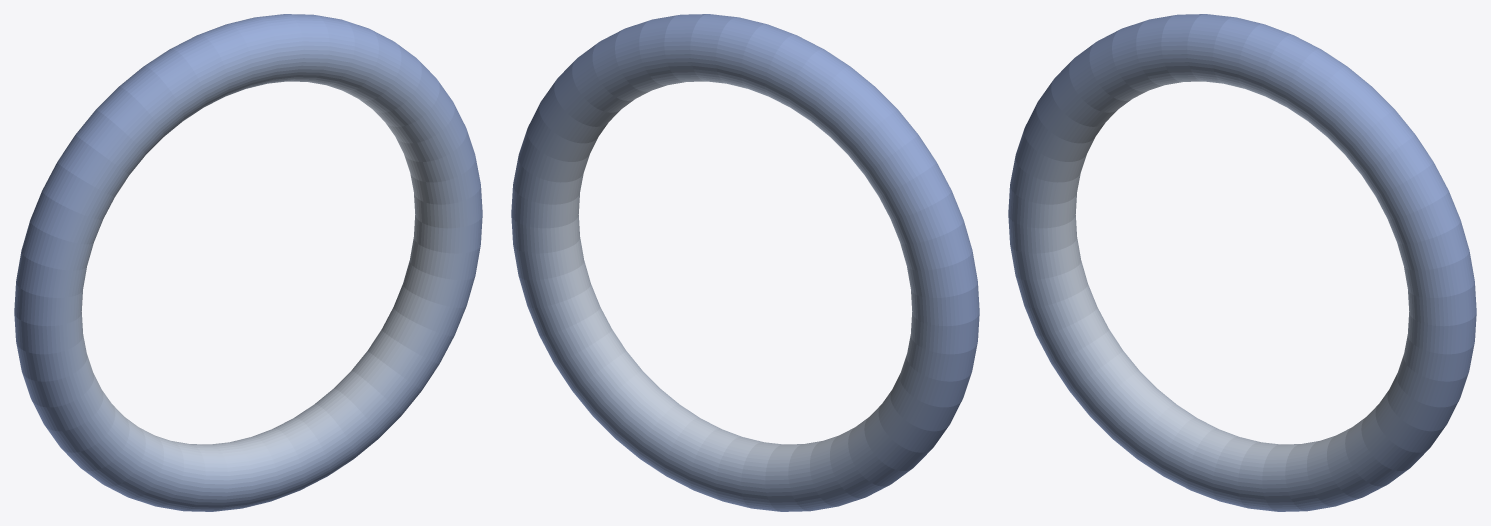
The picture shows the model from 3 angles, left to right: view 1: azimuth 30°, elevation 25°; view 2: azimuth 150°, elevation 25°; view 3: azimuth 330°, elevation 25°; orthographic projection.
Visible parts, largest first — view 1: world; view 2: world; view 3: world.
Boxes of the visible parts, left/top/right/bottom form: world: left=14, top=14, right=482, bottom=511; world: left=511, top=14, right=979, bottom=511; world: left=1008, top=14, right=1476, bottom=511.
Bounding box in the file's own units: 28.27 × 28.21 × 3.59.
